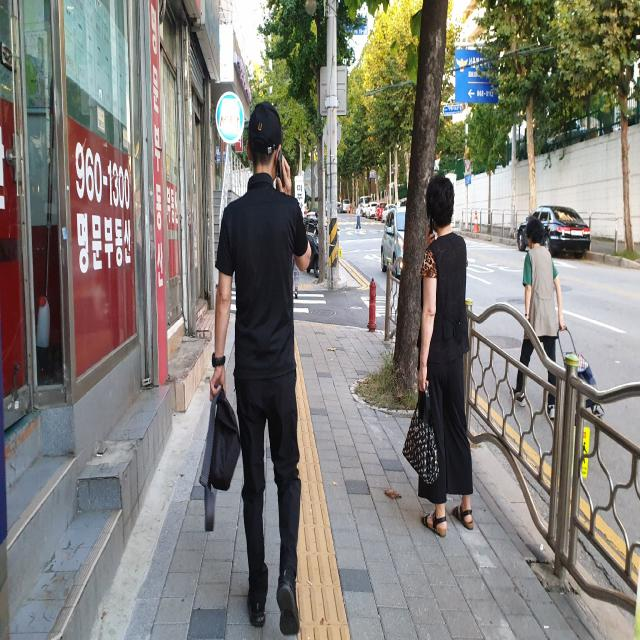횡단보도: (230, 290, 327, 315)
